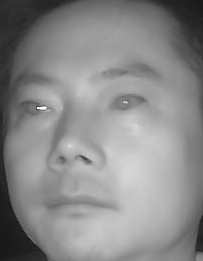eye: (104, 90, 149, 115), (14, 97, 55, 122)
mouth: (45, 182, 118, 223)
